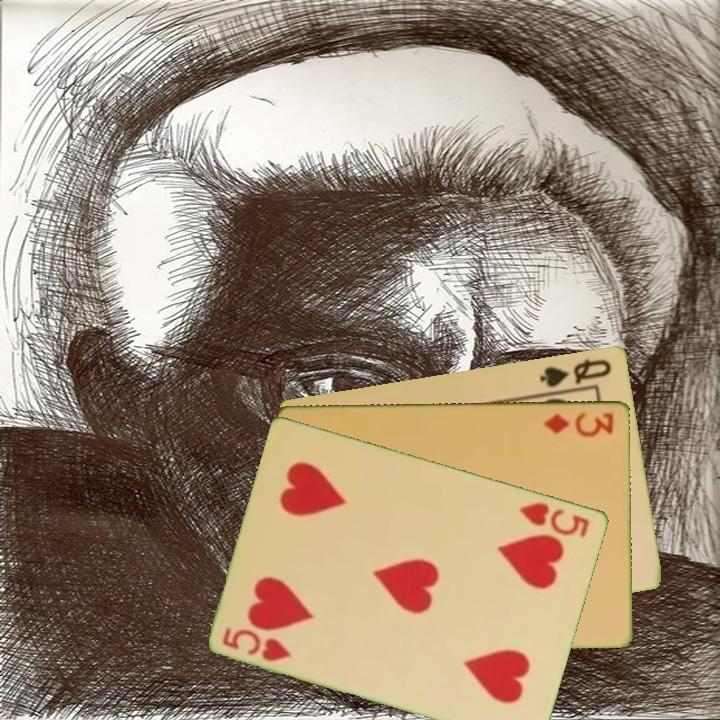3d: (540, 408, 616, 438)
5h: (516, 498, 593, 540), (219, 623, 295, 665)
Qs: (536, 355, 615, 390)
